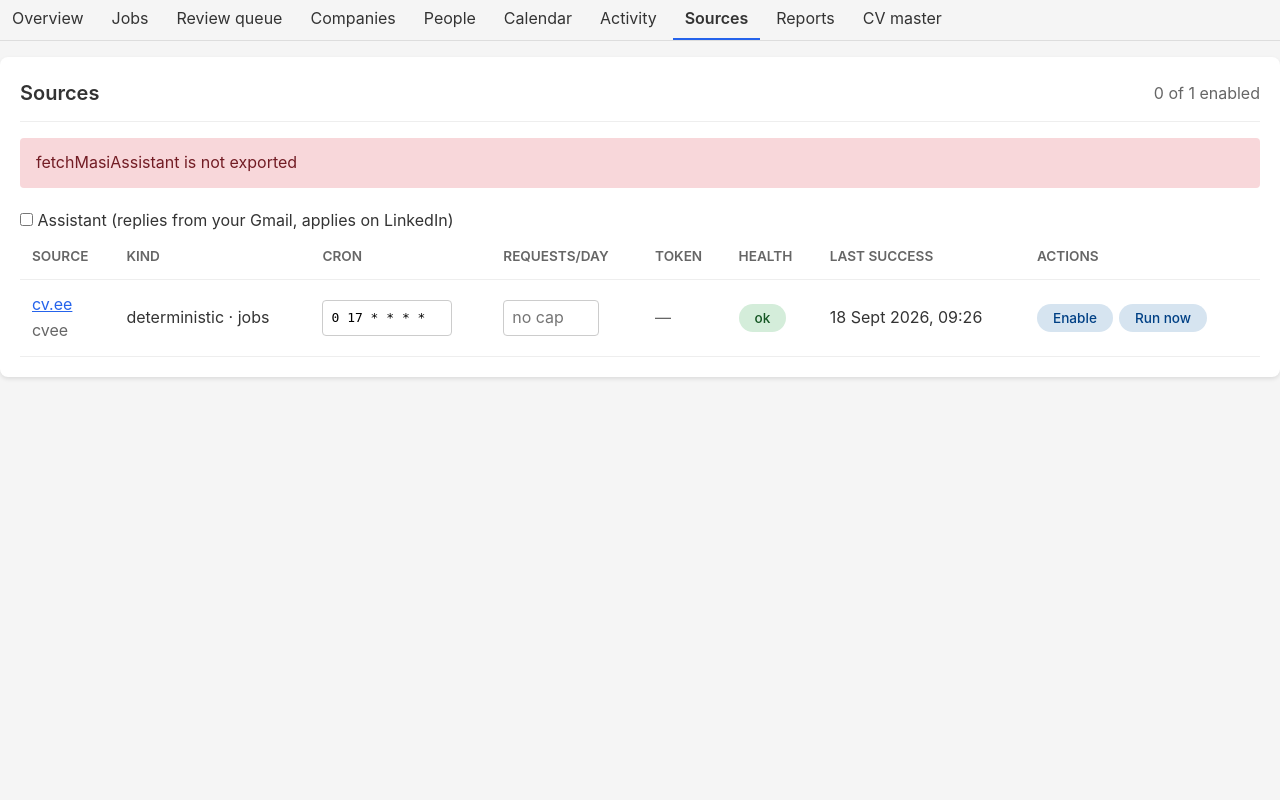
MasiSources › lists sources, enables one, runs it now and shows its runs
Expected: the text "0 of 1 enabled" is shown, x1=1154 y1=81 x2=1260 y2=106
Click the button "Enable" at point(1075, 318), box x1=1037 y1=304 x2=1113 y2=332
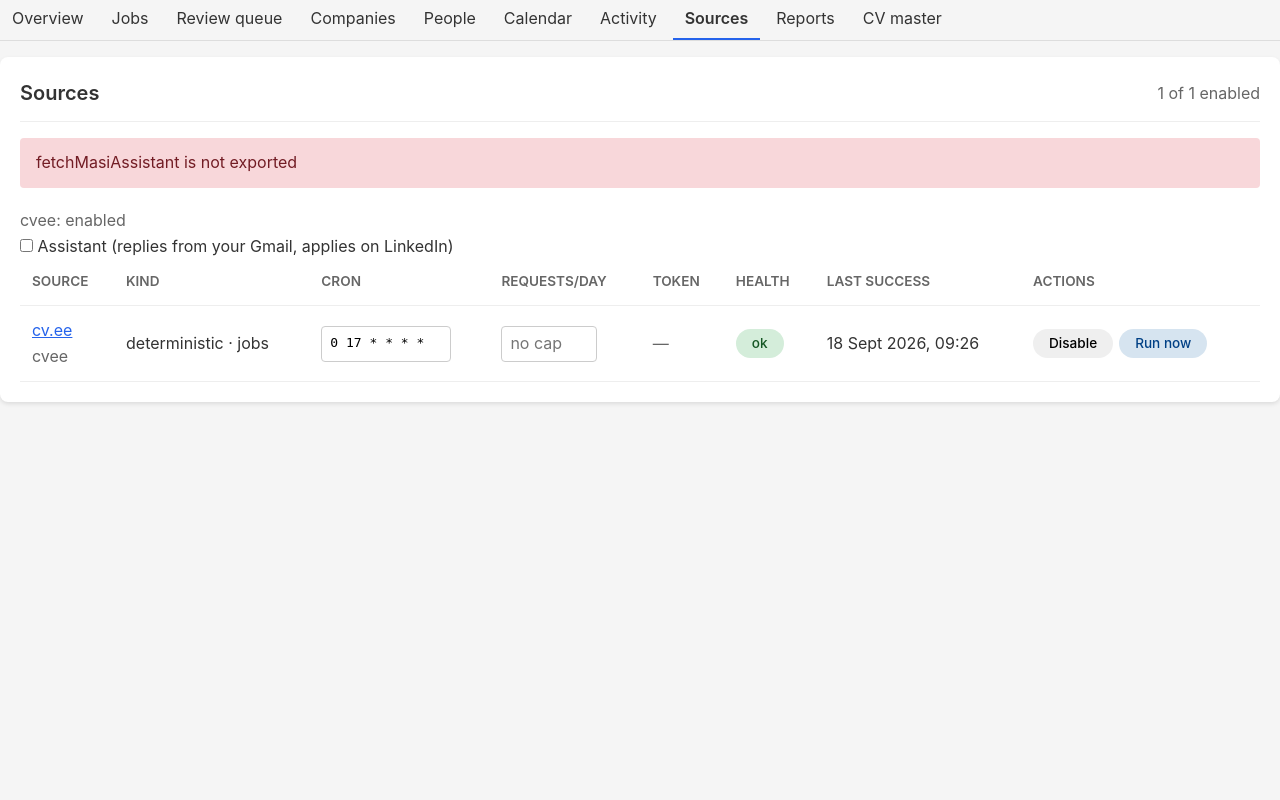
Now the text "1 of 1 enabled" is shown, box x1=1157 y1=81 x2=1260 y2=106
Click the button "Run now" at point(1163, 343), box x1=1119 y1=329 x2=1207 y2=358
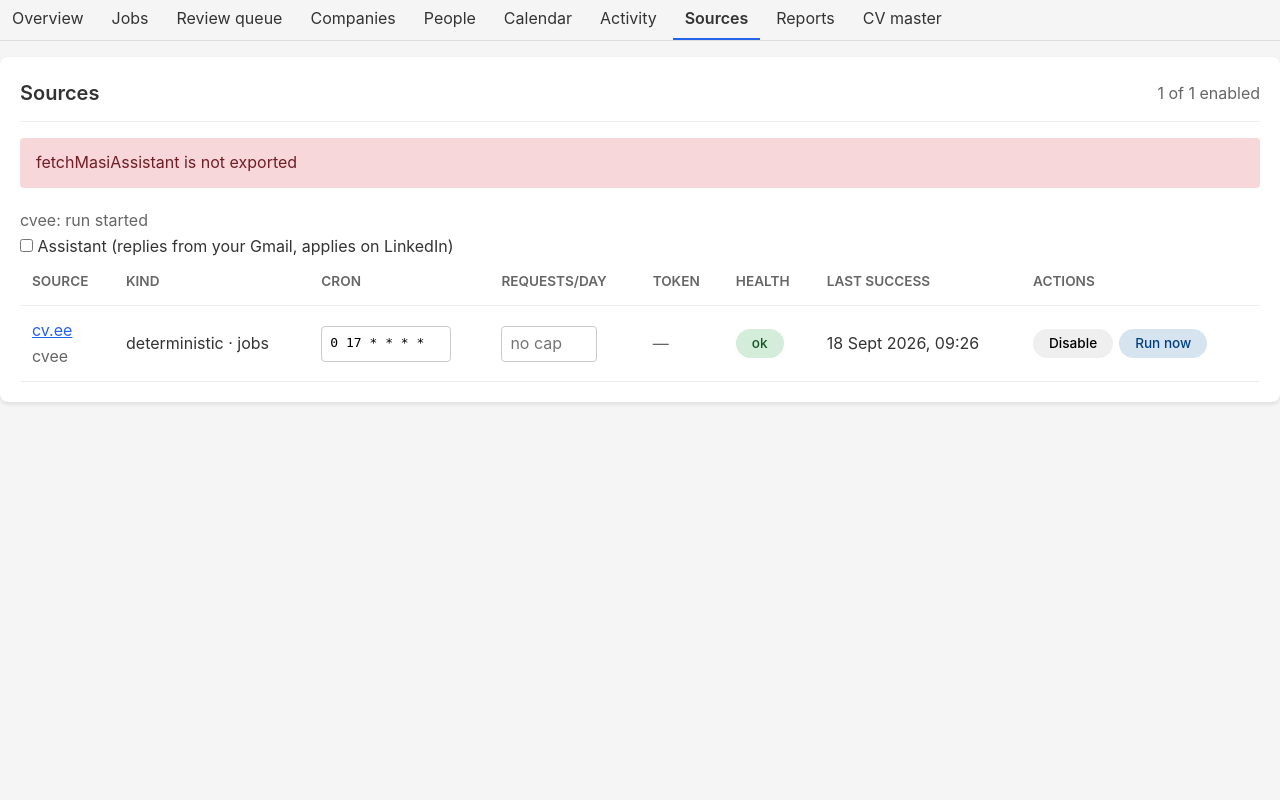
Now the text "cvee: run started" is shown, box x1=20 y1=210 x2=148 y2=230
Note: an edited cron is saved on blur, and the edit survives the reload every action triggers
Replace the text in the field named "Cron for cvee" with "0 5 * * * *" at point(386, 344), box x1=321 y1=326 x2=451 y2=362
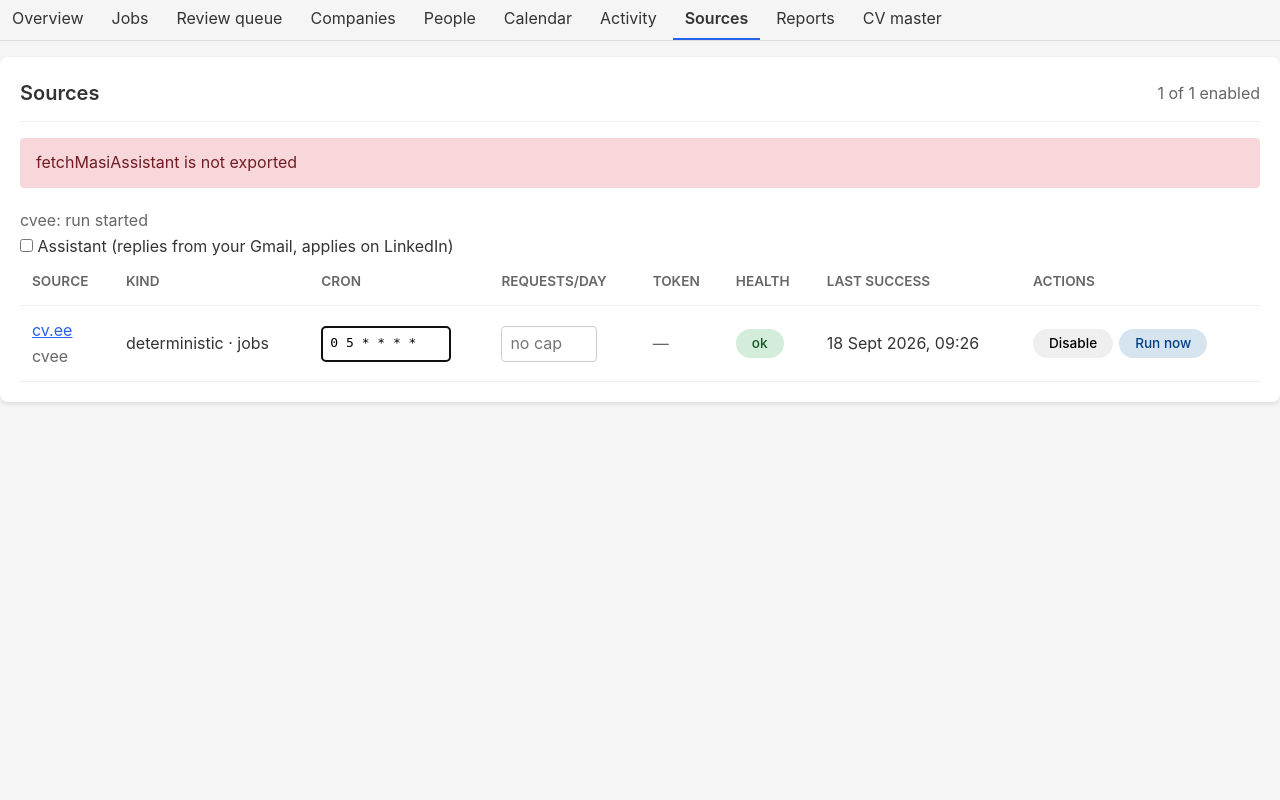
Press Tab
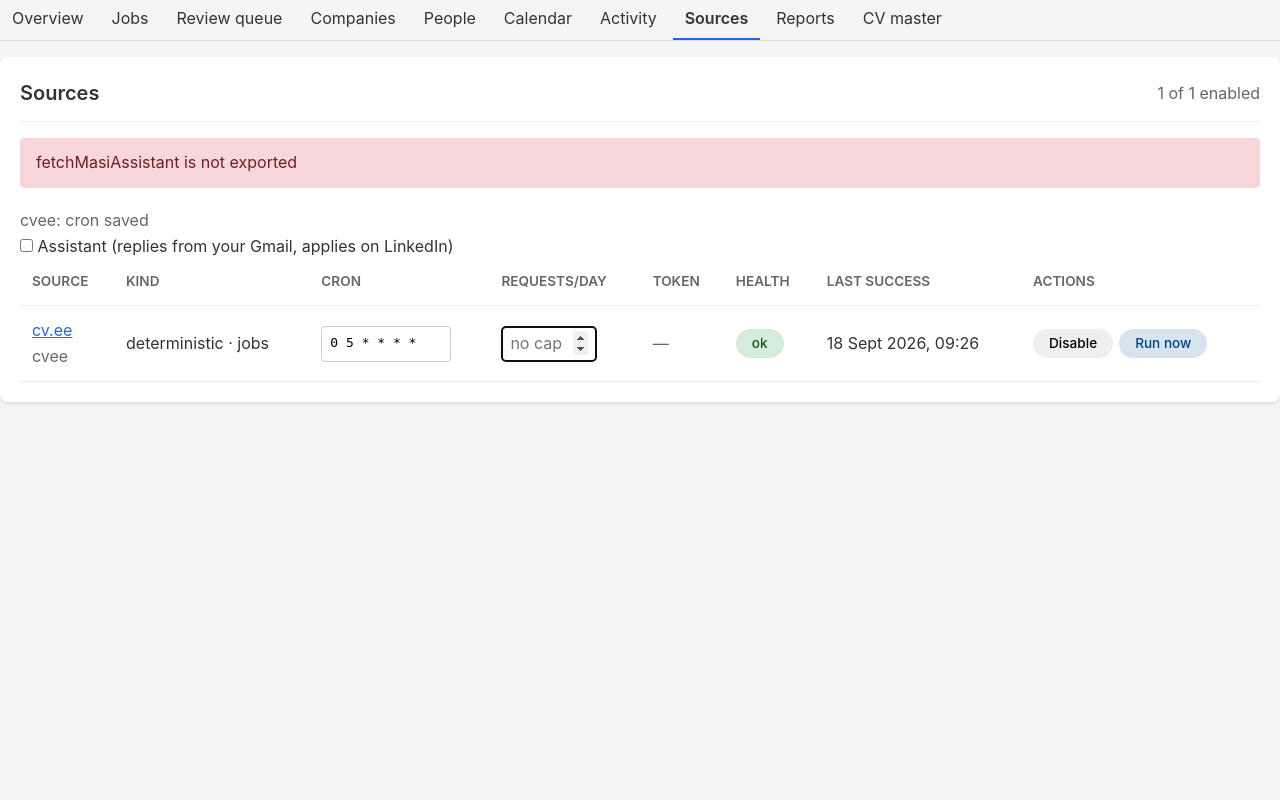
Now the text "cvee: cron saved" is shown, box x1=20 y1=210 x2=149 y2=230
Click the button "Run now" at point(1163, 343), box x1=1119 y1=329 x2=1207 y2=358
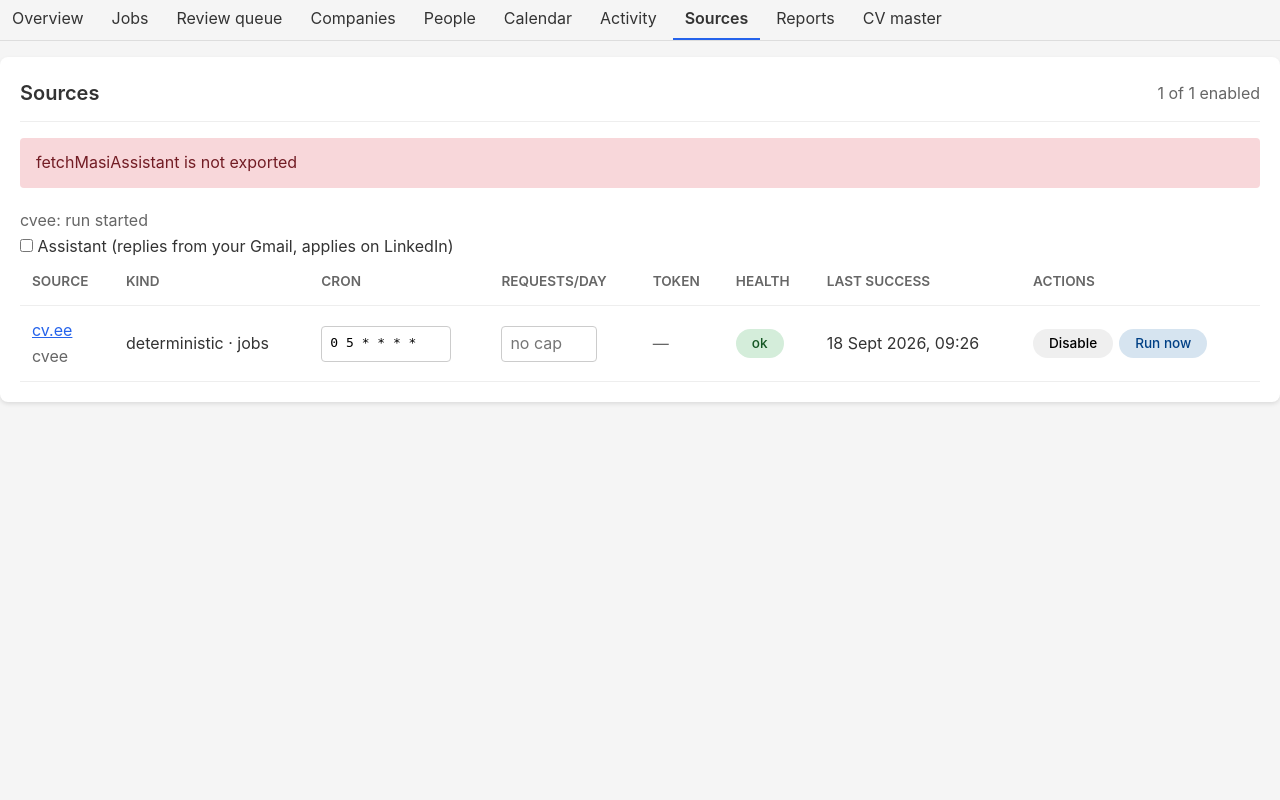
Click the button "cv.ee" at point(52, 331), box x1=32 y1=318 x2=72 y2=344
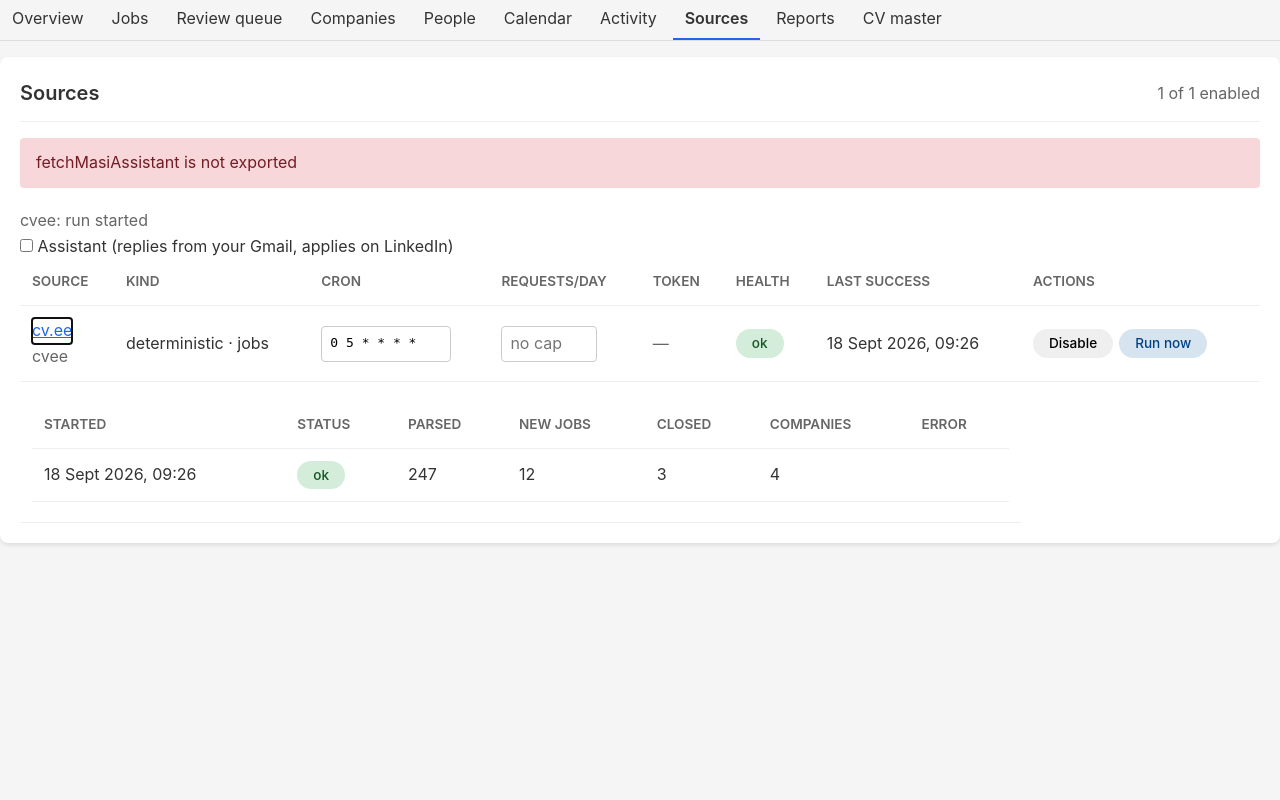
Now the table with test id "runs-cvee" shows "247", box x1=408 y1=464 x2=437 y2=484
Now the table with test id "runs-cvee" shows "12", box x1=519 y1=464 x2=535 y2=484
